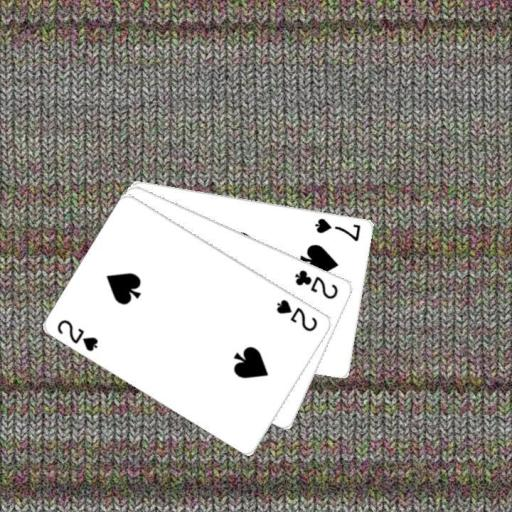2C: (291, 266, 340, 301)
2S: (273, 296, 319, 333), (54, 316, 100, 353)
7S: (312, 215, 363, 242)
